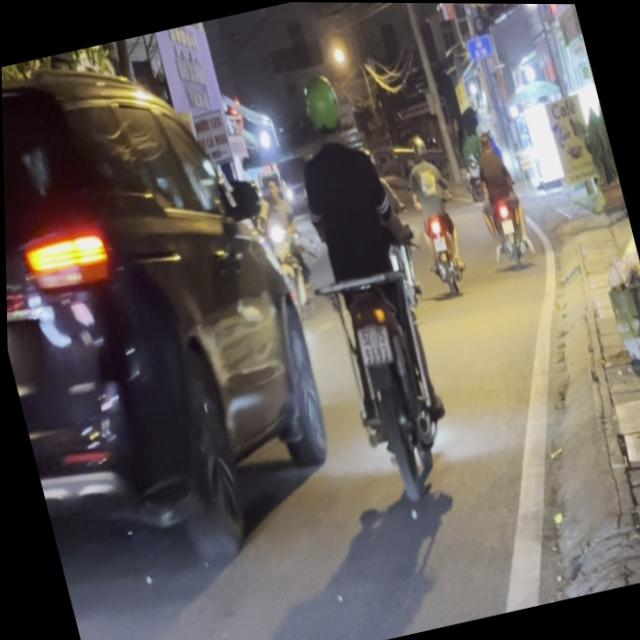helmet: (293, 69, 345, 144)
licenseplate: (258, 57, 468, 500)
nohelmet: (351, 320, 390, 364)
